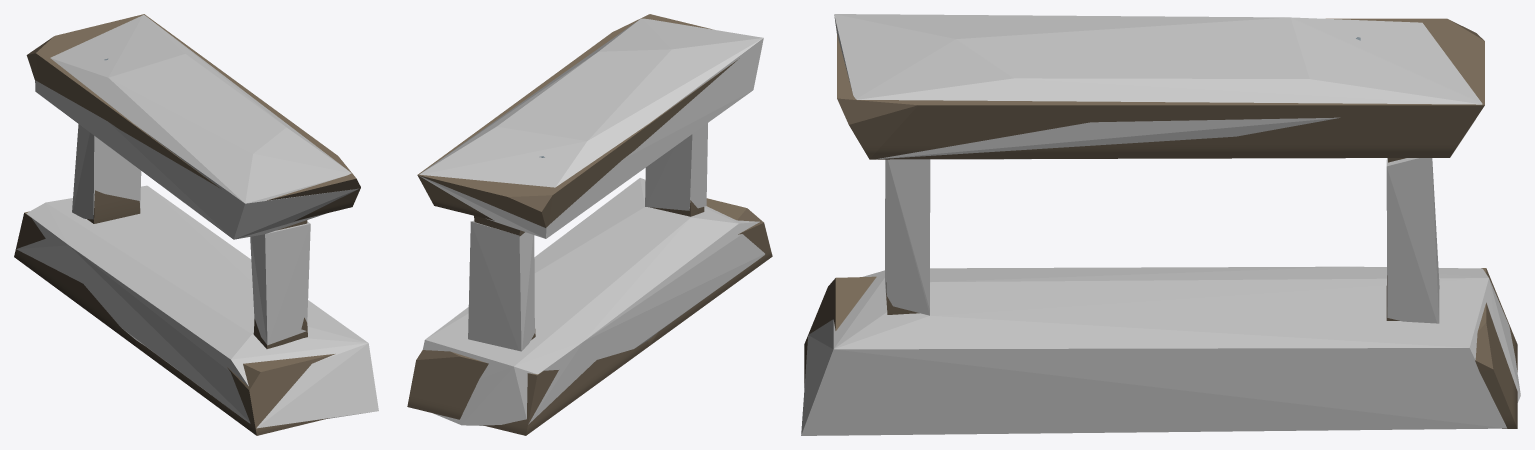
Rendered from SM_Item_Rack_01.fbx.
3 renders of one model, left to right at view 1: azimuth 30°, elevation 25°; view 2: azimuth 150°, elevation 25°; view 3: azimuth 270°, elevation 25°, orthographic. The views are drawn at different scales.
Parts seen in each view (by area): view 1: SM_Item_Rack_01_ConvexHulls, SM_Item_Rack_01; view 2: SM_Item_Rack_01_ConvexHulls, SM_Item_Rack_01; view 3: SM_Item_Rack_01_ConvexHulls, SM_Item_Rack_01.
Boxes of the visible parts, <box> form: SM_Item_Rack_01_ConvexHulls: <box>16,15,378,428</box>; SM_Item_Rack_01: <box>14,14,360,435</box>; SM_Item_Rack_01_ConvexHulls: <box>419,18,764,425</box>; SM_Item_Rack_01: <box>407,14,772,435</box>; SM_Item_Rack_01_ConvexHulls: <box>801,14,1520,435</box>; SM_Item_Rack_01: <box>804,18,1517,428</box>.
Size of the model in its own units: 12.95 by 44.59 by 23.59.
Materials: 2 (1 with a texture image).
